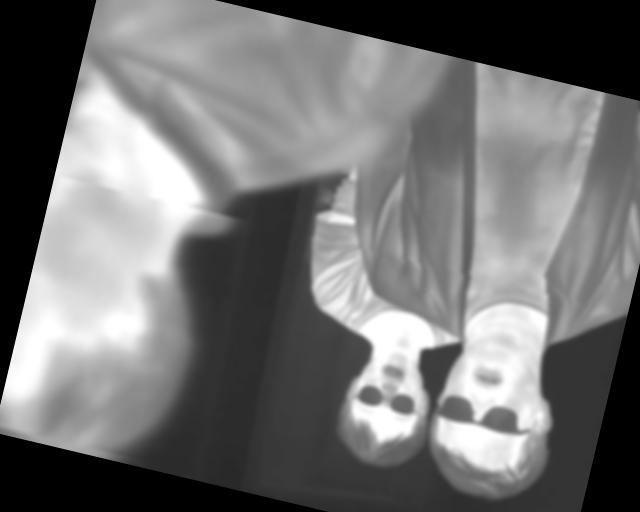face: (416, 324, 573, 512), (326, 339, 442, 477)
